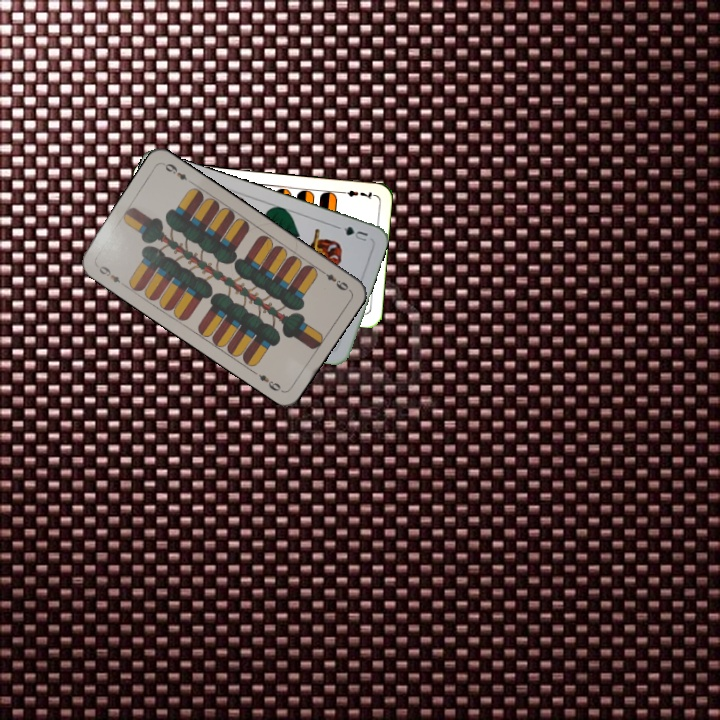E7: (336, 186, 376, 201)
E9: (316, 266, 351, 293), (92, 261, 123, 285)
GU: (333, 222, 370, 244)
